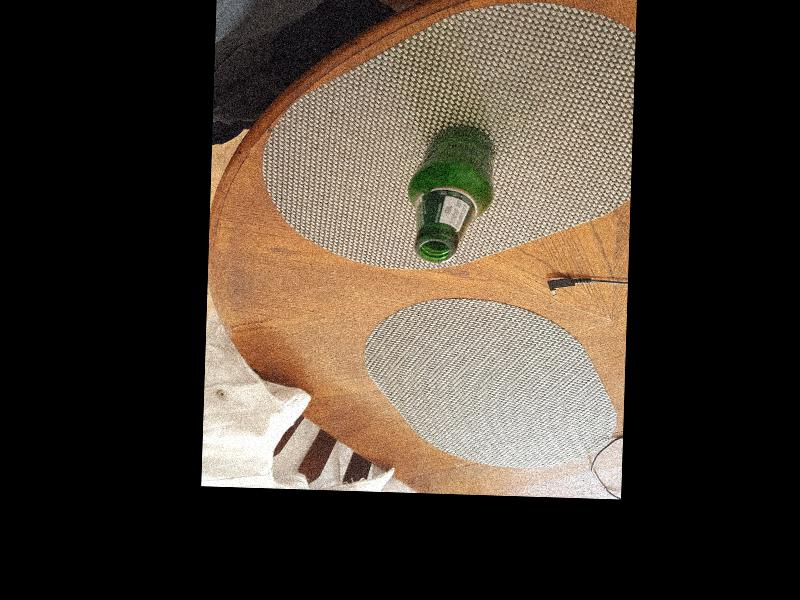Beer: (405, 123, 494, 262)
